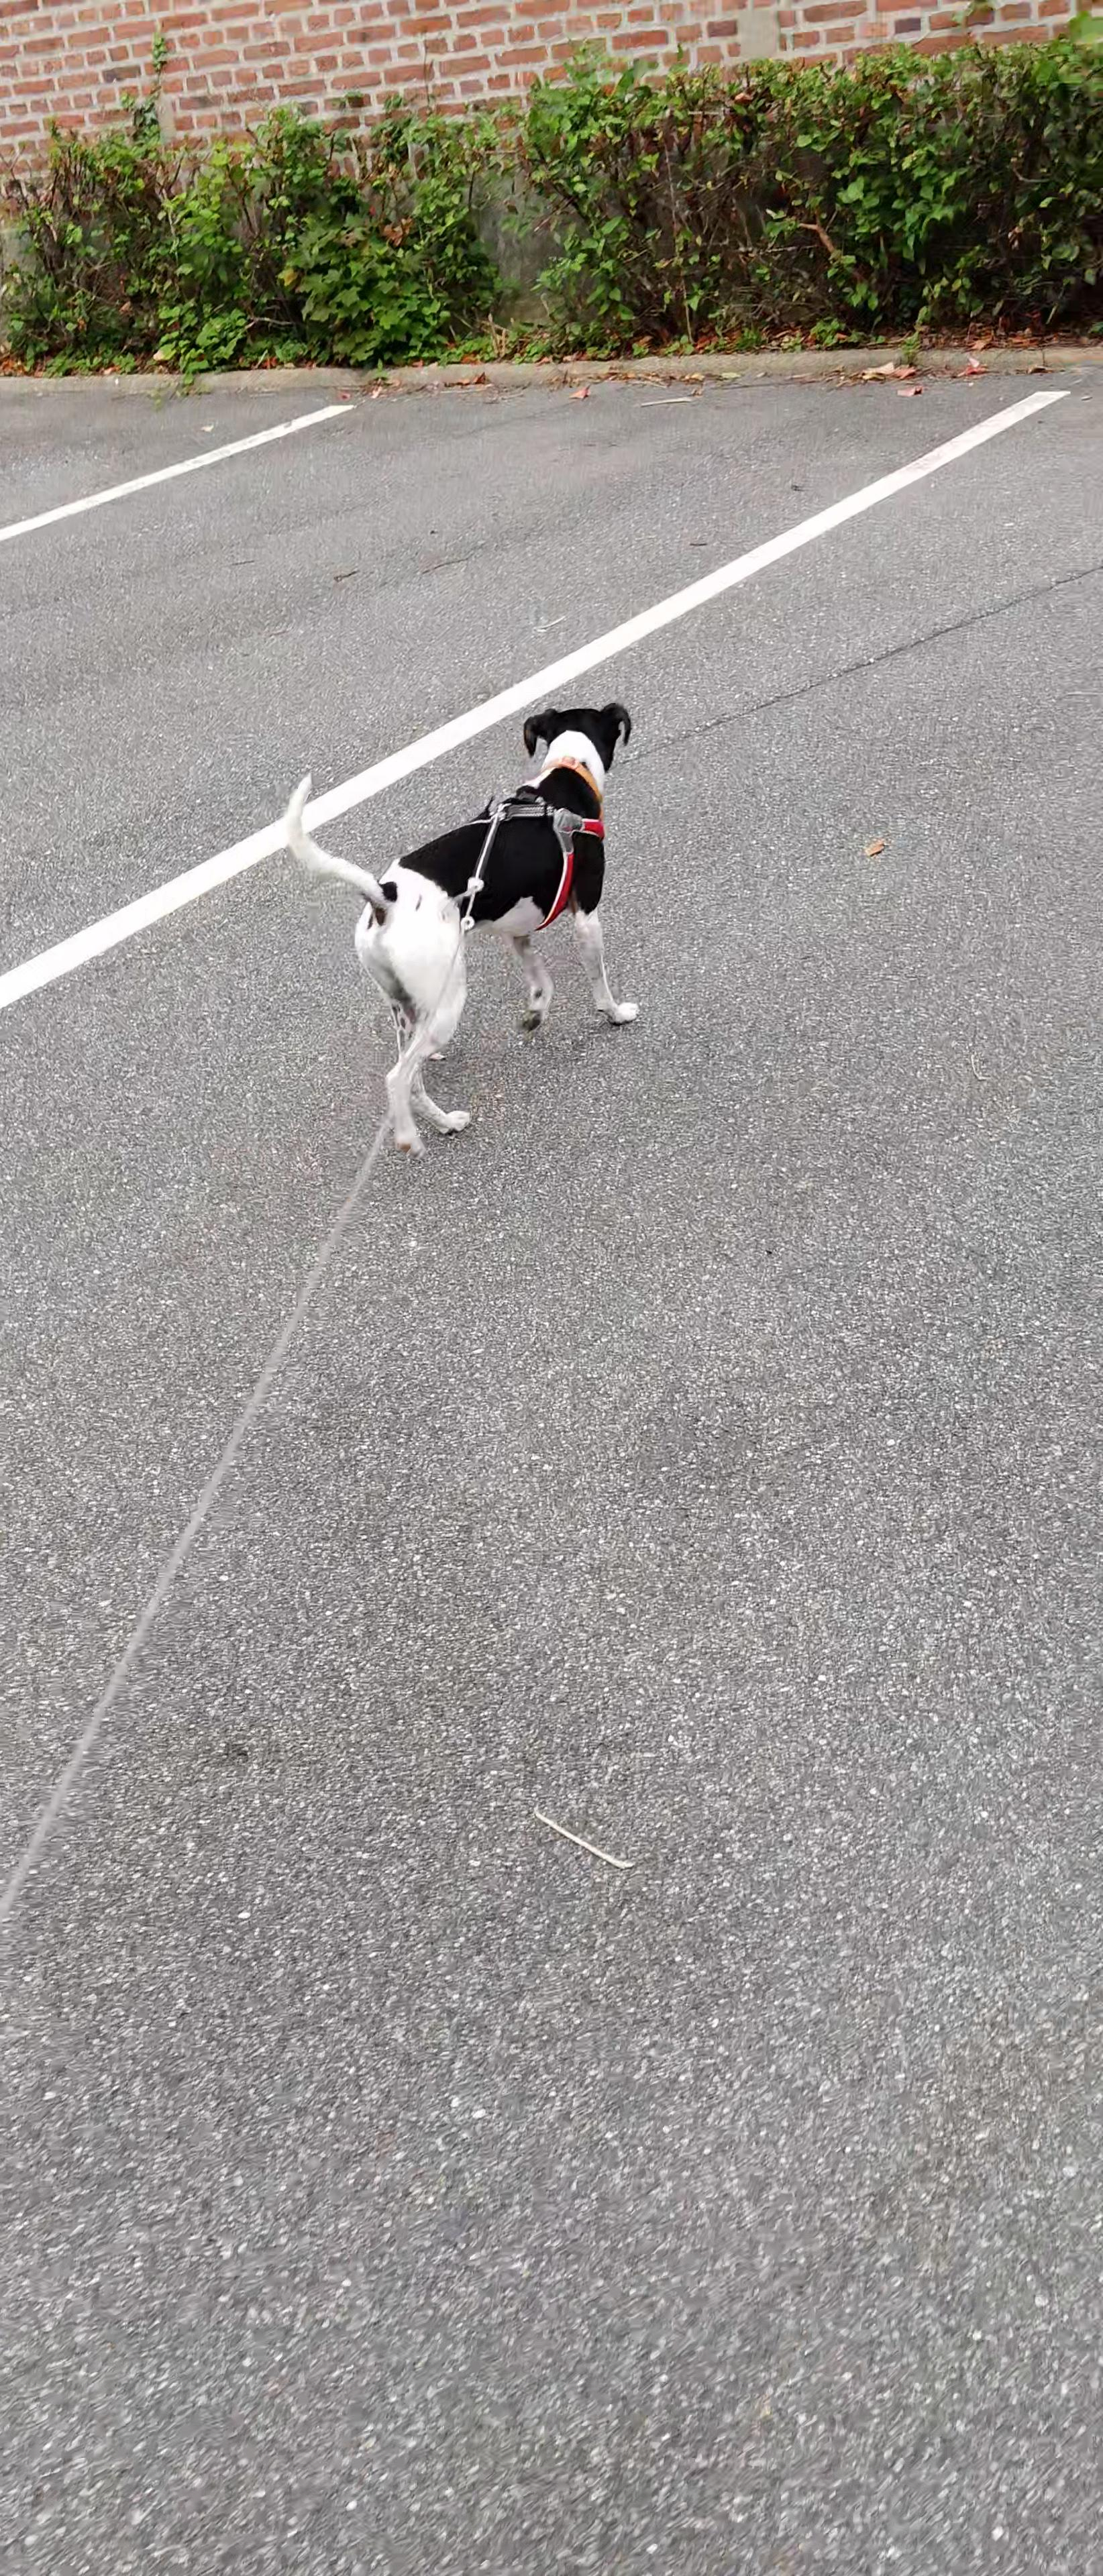Dog: (278, 698, 658, 1163)
